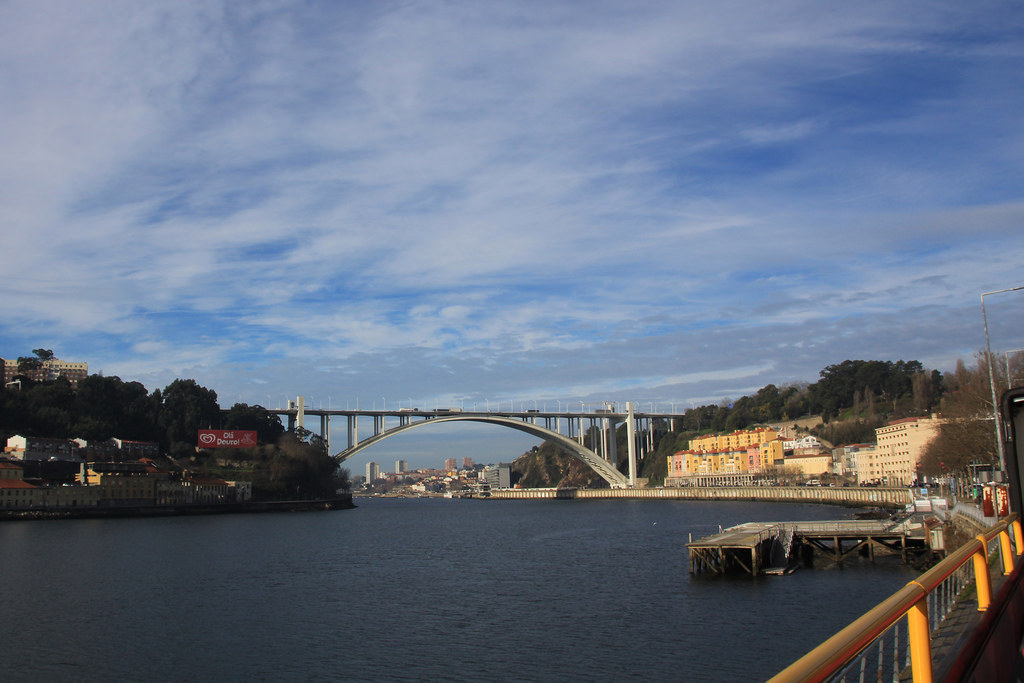arrabida: (262, 395, 688, 489)
